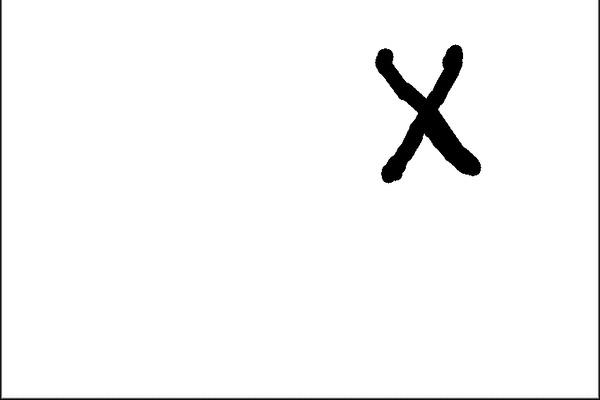X: (341, 21, 525, 192)
